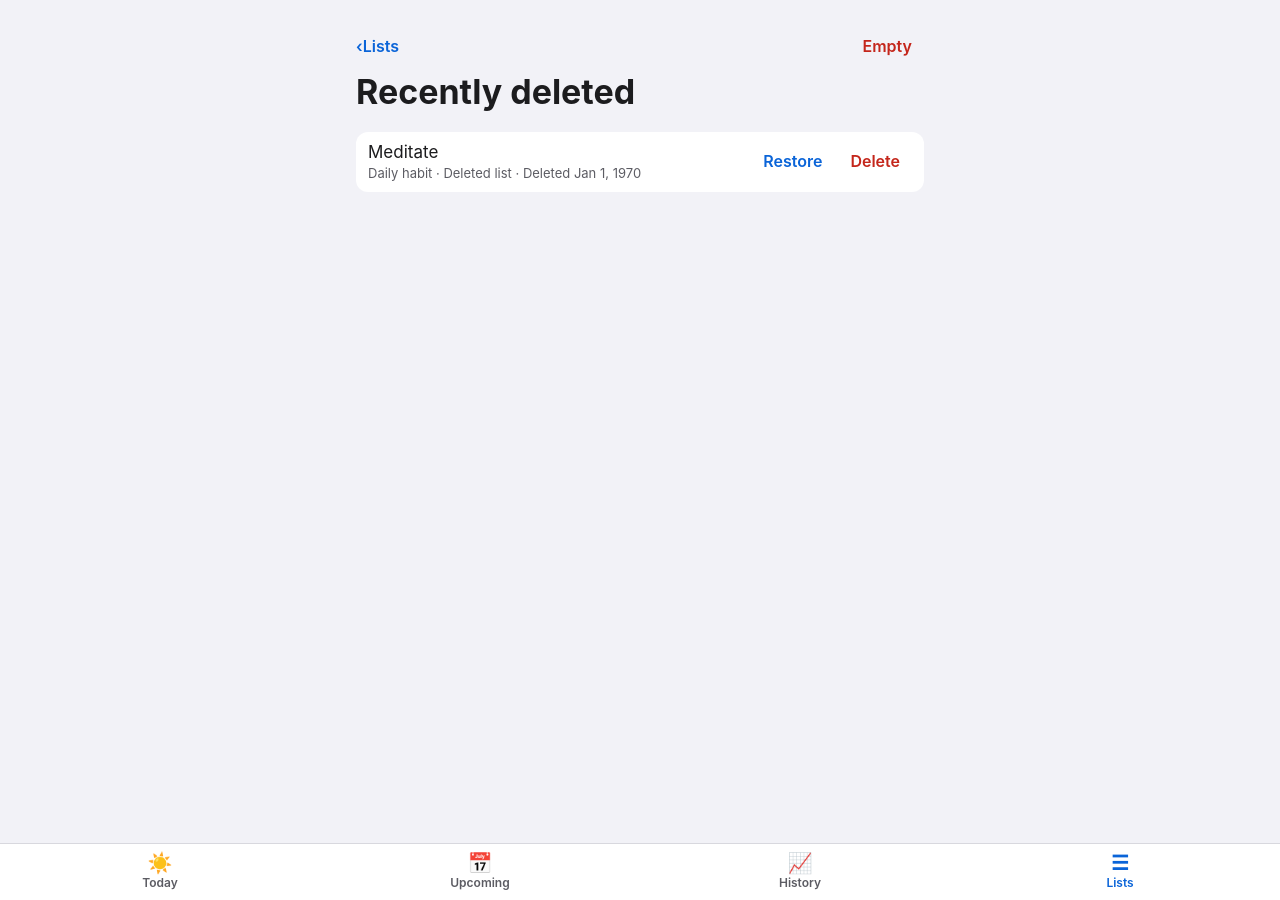
Test: Recently deleted › explains that a list is needed when there are none
Click the button with aria-label "Restore Meditate".
click(793, 162)  # box [751,140,834,184]
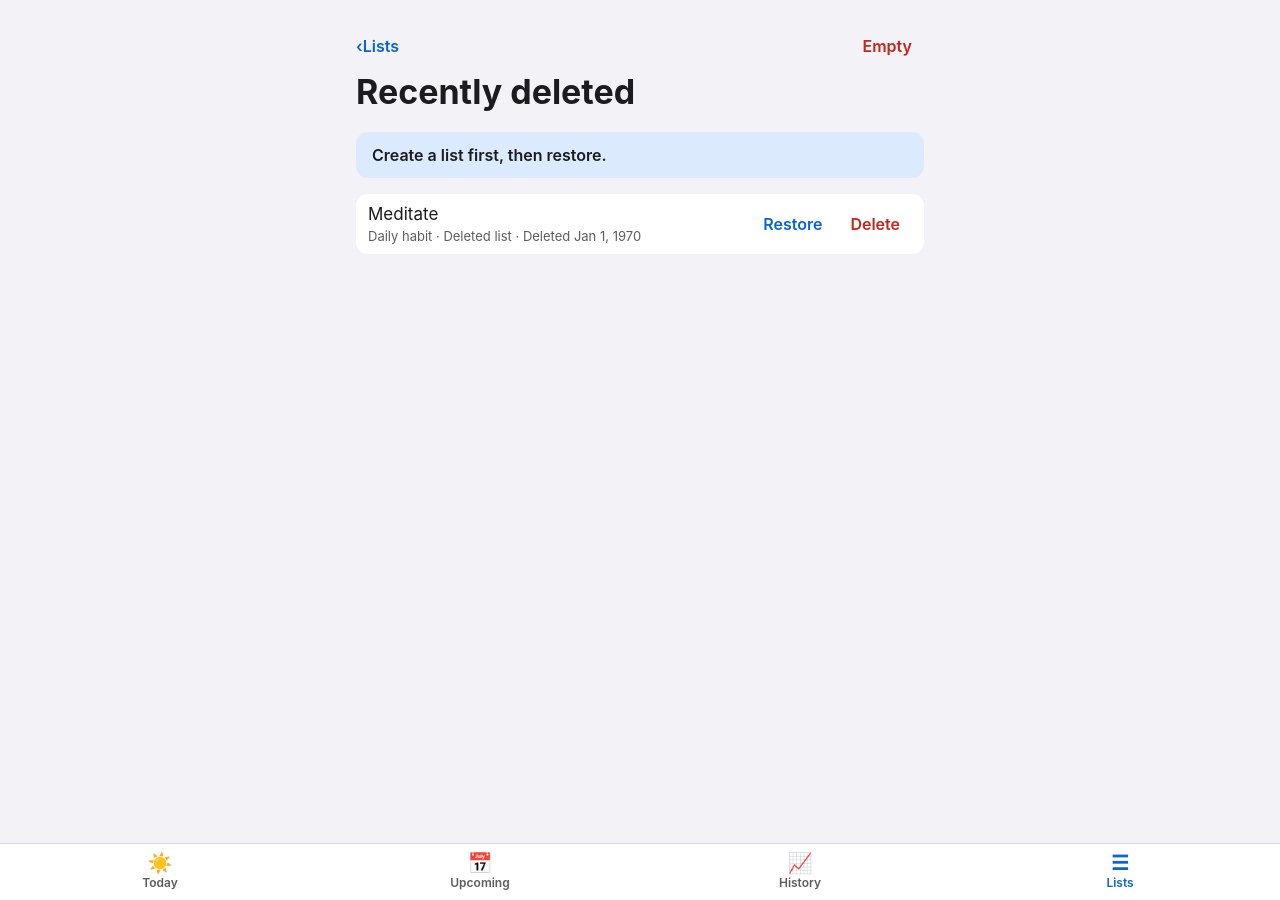
Expected: the button with aria-label "Restore Meditate" is shown, [751,202,834,246]
Expected: the text "Create a list first, then restore." is shown, [356,132,924,178]
